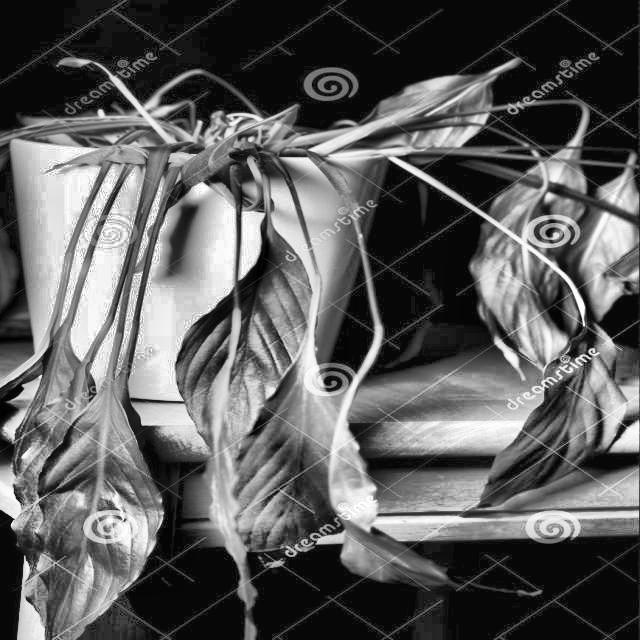plants: (11, 48, 639, 640)
